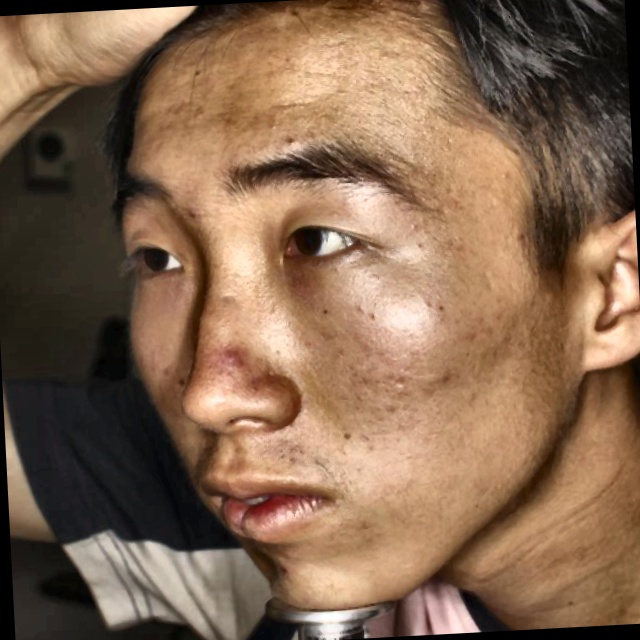comedone: (217, 342, 258, 374)
